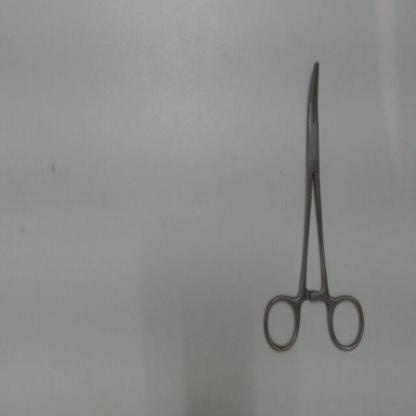Crile Artery Forceps: (258, 50, 372, 359)
